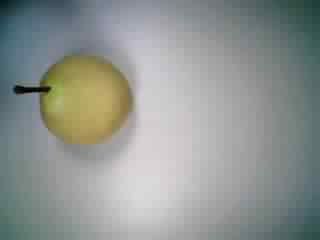pear: (9, 45, 138, 148)
